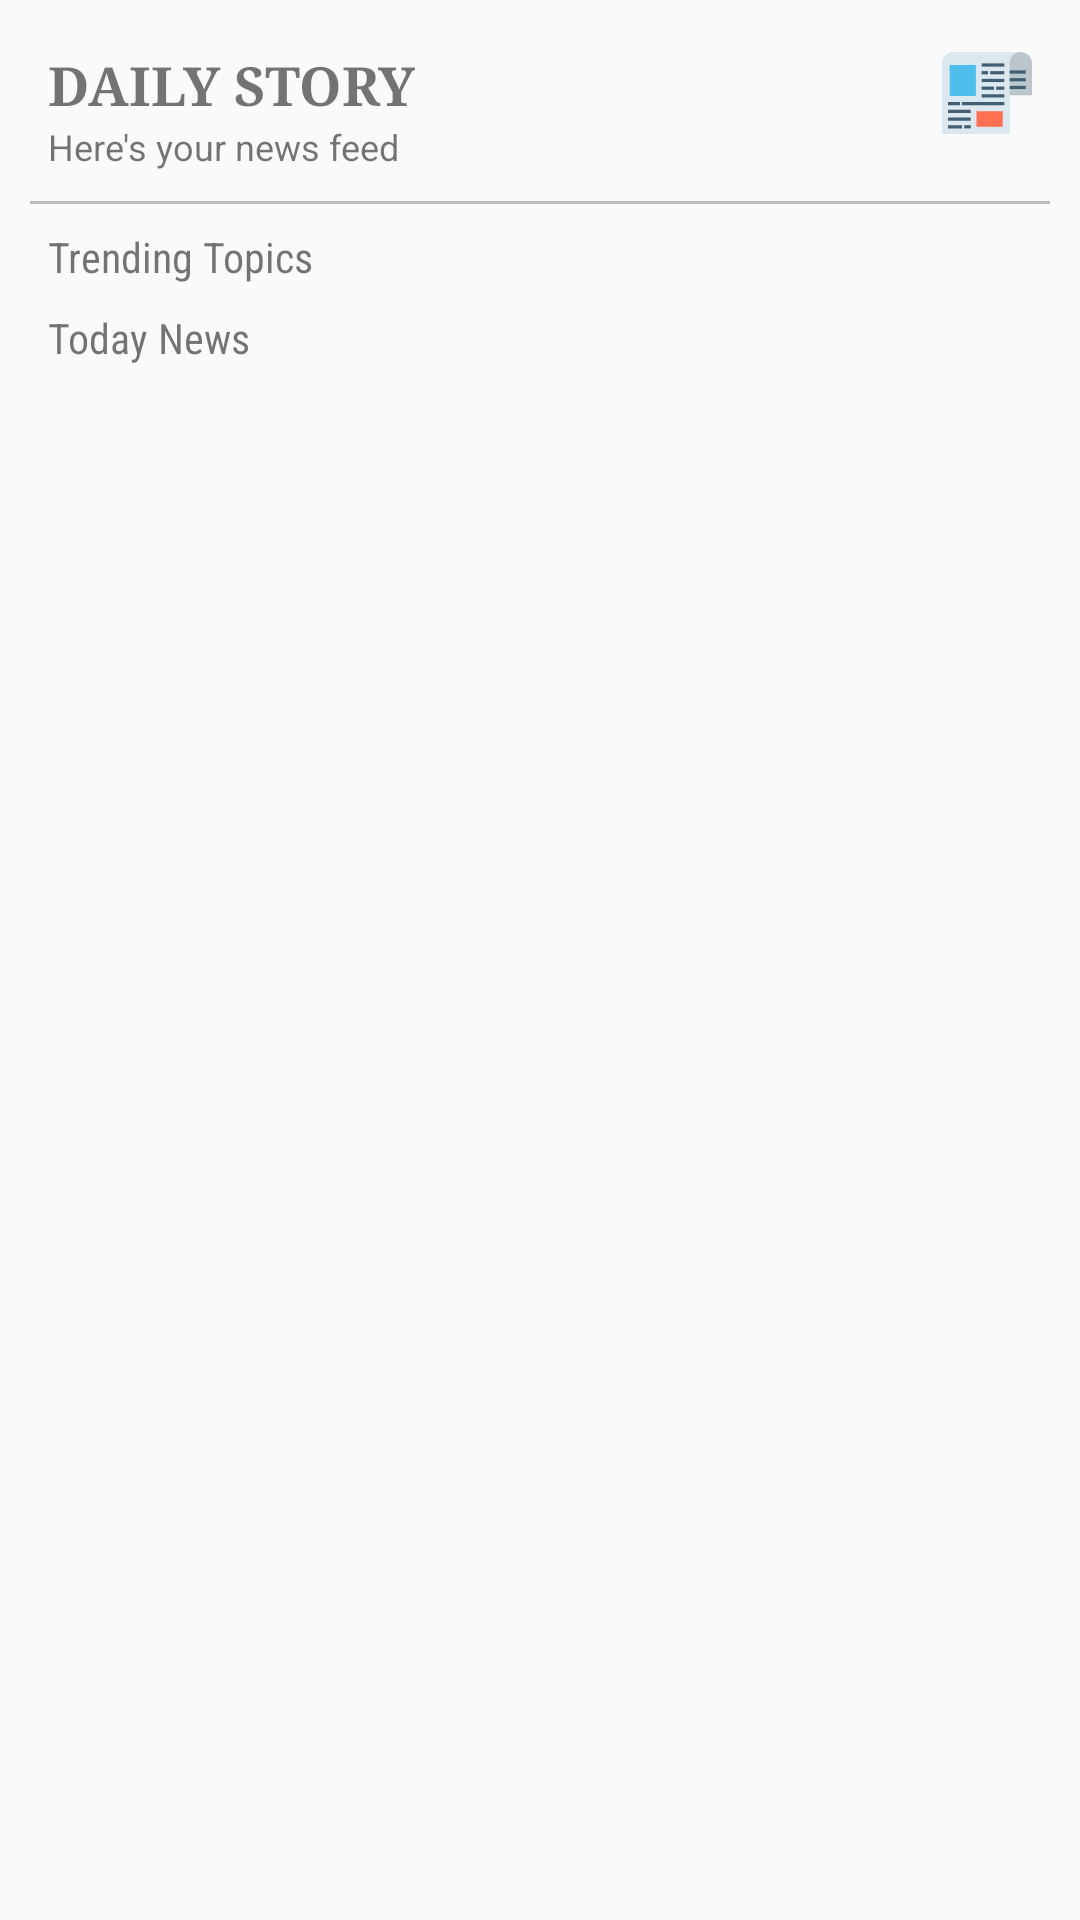

Where to tap for icons on this 1080 x 1920 app screen, as (x=x, y=y):
news: (x=987, y=93)
